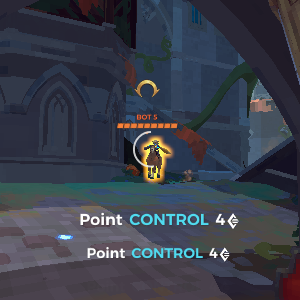model: (146, 138, 165, 179)
